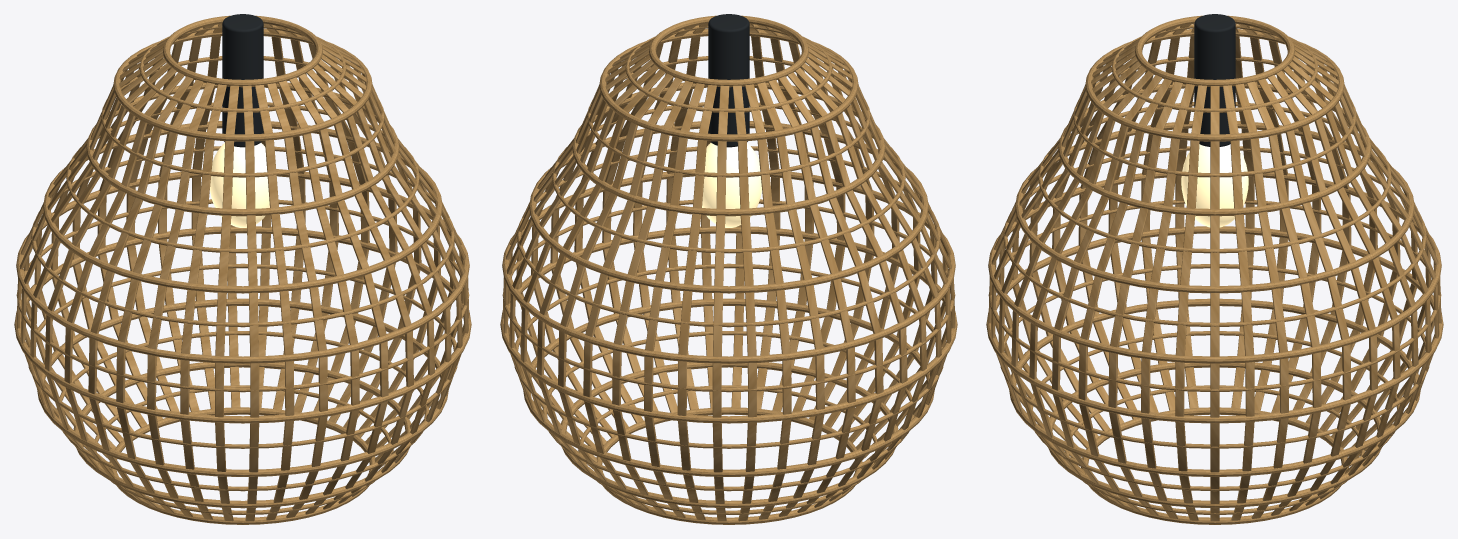
Rendered from pendantLamp.glb.
3 renders of one model, left to right at view 1: azimuth 30°, elevation 25°; view 2: azimuth 150°, elevation 25°; view 3: azimuth 270°, elevation 25°, orthographic.
Parts seen in each view (by area): view 1: Bamboo_horizontal_ring.003, Bamboo_horizontal_ring.004, Bamboo_horizontal_ring.002, Bamboo_horizontal_ring.005, Bamboo_horizontal_ring.001, Woven_bamboo_longitudinal_strip.027, Woven_bamboo_longitudinal_strip.028, Woven_bamboo_longitudinal_strip.025, Woven_bamboo_longitudinal_strip.026, Woven_bamboo_longitudinal_strip.029, Woven_bamboo_longitudinal_strip.024, Black_pendant_socket (+47 smaller); view 2: Bamboo_horizontal_ring.003, Bamboo_horizontal_ring.004, Bamboo_horizontal_ring.002, Bamboo_horizontal_ring.005, Bamboo_horizontal_ring.001, Woven_bamboo_longitudinal_strip.013, Woven_bamboo_longitudinal_strip.012, Woven_bamboo_longitudinal_strip.015, Woven_bamboo_longitudinal_strip.014, Woven_bamboo_longitudinal_strip.011, Woven_bamboo_longitudinal_strip.016, Black_pendant_socket (+47 smaller); view 3: Bamboo_horizontal_ring.003, Bamboo_horizontal_ring.002, Bamboo_horizontal_ring.004, Bamboo_horizontal_ring.005, Bamboo_horizontal_ring.001, Woven_bamboo_longitudinal_strip, Woven_bamboo_longitudinal_strip.001, Woven_bamboo_longitudinal_strip.039, Woven_bamboo_longitudinal_strip.002, Woven_bamboo_longitudinal_strip.038, Woven_bamboo_longitudinal_strip.003, Woven_bamboo_longitudinal_strip.037 (+46 smaller).
Part boxes in pixels (x1=…): Bamboo_horizontal_ring.003: x1=14, y1=226, x2=471, y2=423; Bamboo_horizontal_ring.004: x1=16, y1=169, x2=469, y2=363; Bamboo_horizontal_ring.002: x1=37, y1=298, x2=448, y2=476; Bamboo_horizontal_ring.005: x1=43, y1=121, x2=442, y2=293; Bamboo_horizontal_ring.001: x1=73, y1=362, x2=411, y2=508; Woven_bamboo_longitudinal_strip.027: x1=242, y1=85, x2=259, y2=521; Woven_bamboo_longitudinal_strip.028: x1=255, y1=85, x2=294, y2=520; Woven_bamboo_longitudinal_strip.025: x1=180, y1=84, x2=226, y2=519; Woven_bamboo_longitudinal_strip.026: x1=215, y1=85, x2=239, y2=521; Woven_bamboo_longitudinal_strip.029: x1=267, y1=83, x2=327, y2=517; Woven_bamboo_longitudinal_strip.024: x1=147, y1=82, x2=214, y2=516; Black_pendant_socket: x1=222, y1=14, x2=263, y2=147; Bamboo_horizontal_ring.003: x1=500, y1=226, x2=957, y2=423; Bamboo_horizontal_ring.004: x1=502, y1=169, x2=955, y2=363; Bamboo_horizontal_ring.002: x1=523, y1=298, x2=934, y2=476; Bamboo_horizontal_ring.005: x1=529, y1=121, x2=928, y2=293; Bamboo_horizontal_ring.001: x1=560, y1=362, x2=898, y2=508; Woven_bamboo_longitudinal_strip.013: x1=712, y1=85, x2=729, y2=521; Woven_bamboo_longitudinal_strip.012: x1=677, y1=85, x2=716, y2=520; Woven_bamboo_longitudinal_strip.015: x1=745, y1=84, x2=791, y2=519; Woven_bamboo_longitudinal_strip.014: x1=732, y1=85, x2=756, y2=521; Woven_bamboo_longitudinal_strip.011: x1=644, y1=83, x2=704, y2=517; Woven_bamboo_longitudinal_strip.016: x1=757, y1=82, x2=824, y2=516; Black_pendant_socket: x1=708, y1=14, x2=749, y2=147; Bamboo_horizontal_ring.003: x1=986, y1=226, x2=1443, y2=423; Bamboo_horizontal_ring.002: x1=1009, y1=298, x2=1420, y2=476; Bamboo_horizontal_ring.004: x1=988, y1=172, x2=1441, y2=363; Bamboo_horizontal_ring.005: x1=1015, y1=121, x2=1414, y2=293; Bamboo_horizontal_ring.001: x1=1048, y1=362, x2=1381, y2=508; Woven_bamboo_longitudinal_strip: x1=1210, y1=86, x2=1219, y2=521; Woven_bamboo_longitudinal_strip.001: x1=1223, y1=85, x2=1254, y2=520; Woven_bamboo_longitudinal_strip.039: x1=1175, y1=85, x2=1206, y2=520; Woven_bamboo_longitudinal_strip.002: x1=1235, y1=83, x2=1288, y2=518; Woven_bamboo_longitudinal_strip.038: x1=1141, y1=83, x2=1194, y2=518; Woven_bamboo_longitudinal_strip.003: x1=1247, y1=81, x2=1321, y2=515; Woven_bamboo_longitudinal_strip.037: x1=1108, y1=81, x2=1182, y2=515.
Size of the model in its own units: 0.5 by 0.54 by 0.5.
3 materials, 1 textured.
